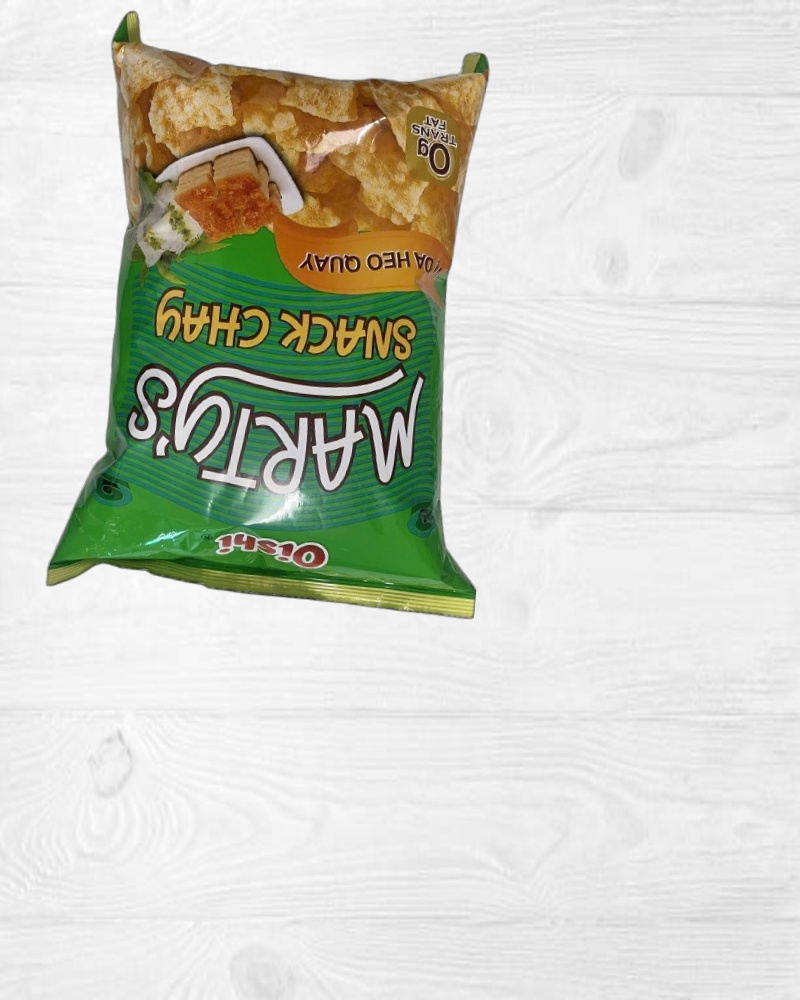Snack chay: (67, 12, 523, 624)
